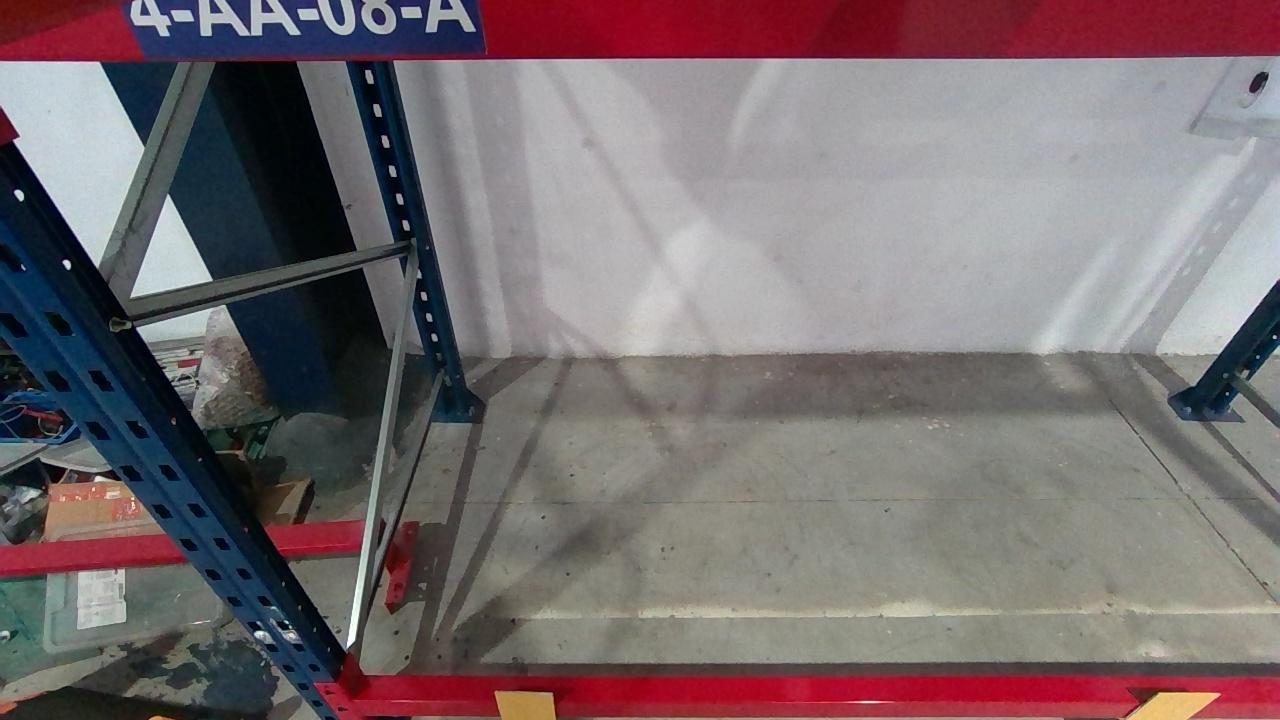h_rack: (0, 2, 1280, 62), (356, 684, 1275, 717)
orange_strip: (1125, 690, 1220, 719), (493, 690, 556, 719)
